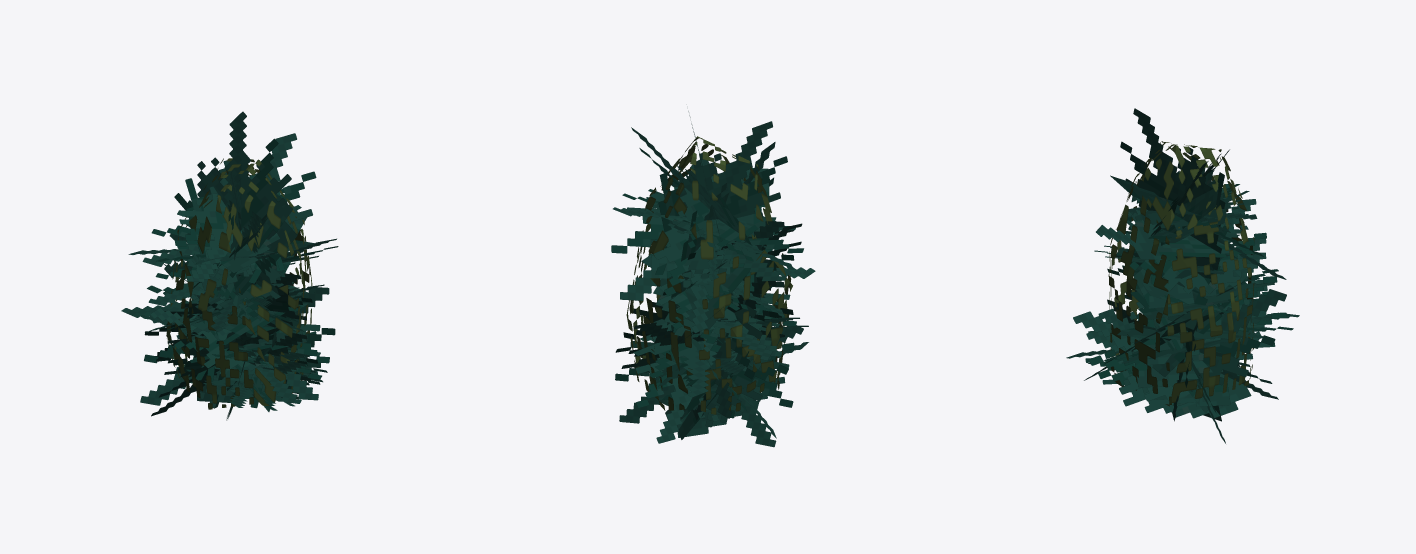
The model's file is BigBush5.fbx.
3 views of the same model, side by side, from view 1: azimuth 30°, elevation 25°; view 2: azimuth 150°, elevation 25°; view 3: azimuth 270°, elevation 25° (orthographic). The views are drawn at different scales.
Visible parts, largest first — view 1: BigBush5; view 2: BigBush5; view 3: BigBush5.
Boxes of the visible parts, box(x1,y1,x2,y2) form: BigBush5: box(121, 111, 338, 420); BigBush5: box(611, 111, 815, 447); BigBush5: box(1066, 108, 1299, 443).
Bounding box in the file's own units: 216 × 268 × 221.
